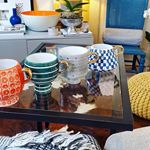cups: (23, 52, 70, 96), (56, 45, 98, 85), (1, 58, 32, 108), (88, 43, 125, 73)
